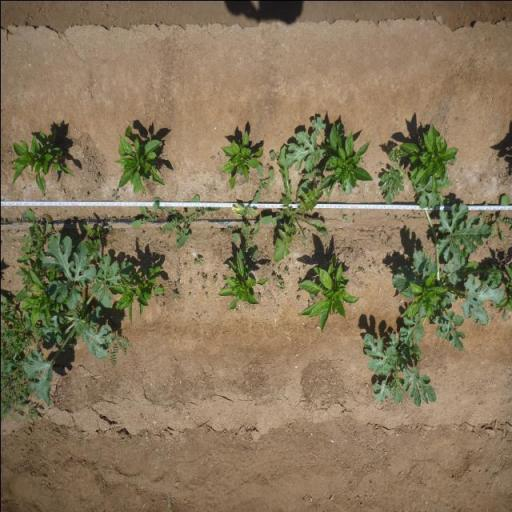plant: (296, 251, 360, 335), (8, 129, 75, 193), (398, 121, 458, 189), (321, 123, 372, 198), (116, 124, 166, 194), (113, 261, 165, 325), (214, 255, 269, 309), (219, 127, 263, 190), (20, 269, 53, 323), (406, 275, 443, 314)
weed: (358, 144, 505, 411), (25, 226, 131, 409), (258, 143, 328, 262), (156, 192, 219, 247), (285, 114, 324, 173), (15, 207, 51, 263), (0, 312, 31, 370), (0, 370, 29, 425), (487, 194, 512, 246), (230, 219, 262, 259), (251, 164, 275, 205), (108, 334, 130, 368), (131, 202, 157, 230), (84, 224, 102, 257), (227, 204, 258, 218), (270, 273, 286, 294), (478, 201, 488, 218), (109, 188, 120, 200), (192, 255, 203, 266), (268, 150, 278, 160), (226, 224, 238, 232), (200, 272, 208, 282), (308, 293, 316, 303), (44, 213, 52, 223), (449, 156, 456, 166), (171, 291, 179, 299), (368, 262, 376, 270), (282, 264, 288, 274), (341, 212, 348, 220), (212, 273, 217, 284), (295, 294, 301, 301), (356, 266, 363, 272), (109, 216, 116, 222), (393, 213, 398, 221), (106, 225, 112, 231), (95, 172, 100, 178), (200, 285, 205, 290), (403, 226, 407, 232), (84, 191, 88, 196)
